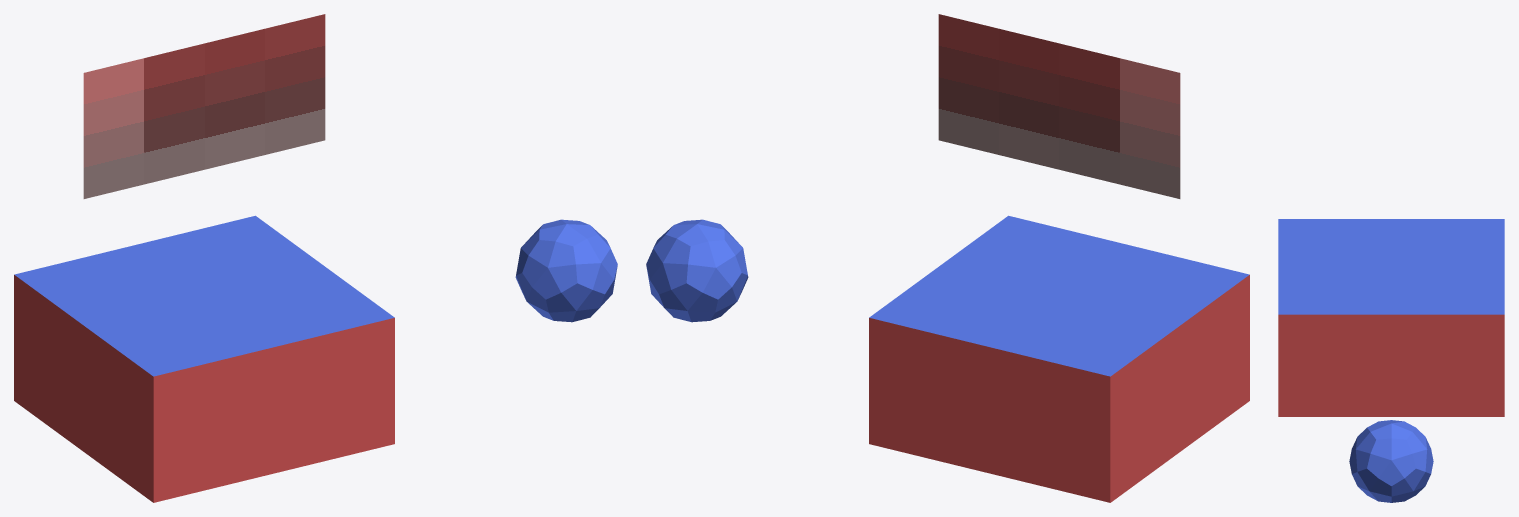
File: crate.glb
The picture shows the model from 3 angles, left to right: view 1: azimuth 30°, elevation 25°; view 2: azimuth 150°, elevation 25°; view 3: azimuth 270°, elevation 25°; orthographic projection. The views are drawn at different scales.
Parts seen in each view (by area): view 1: Crate, Sign, Ball; view 2: Crate, Sign, Ball; view 3: Crate, Ball.
Boxes of the visible parts, bbox=[...] form: Crate: bbox=[14, 215, 394, 502]; Sign: bbox=[83, 14, 325, 198]; Ball: bbox=[515, 219, 617, 322]; Crate: bbox=[869, 215, 1249, 502]; Sign: bbox=[938, 14, 1180, 198]; Ball: bbox=[646, 219, 748, 322]; Crate: bbox=[1278, 219, 1504, 416]; Ball: bbox=[1349, 420, 1433, 502].
Size of the model in its own units: 4.37 by 3 by 2.
Materials: 3 (1 with a texture image).
